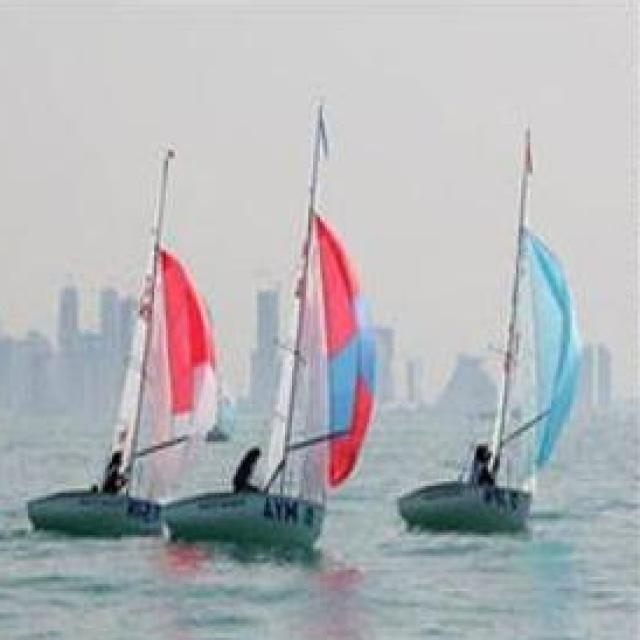sailboat: (163, 97, 390, 543), (27, 135, 233, 546), (403, 122, 601, 547)
